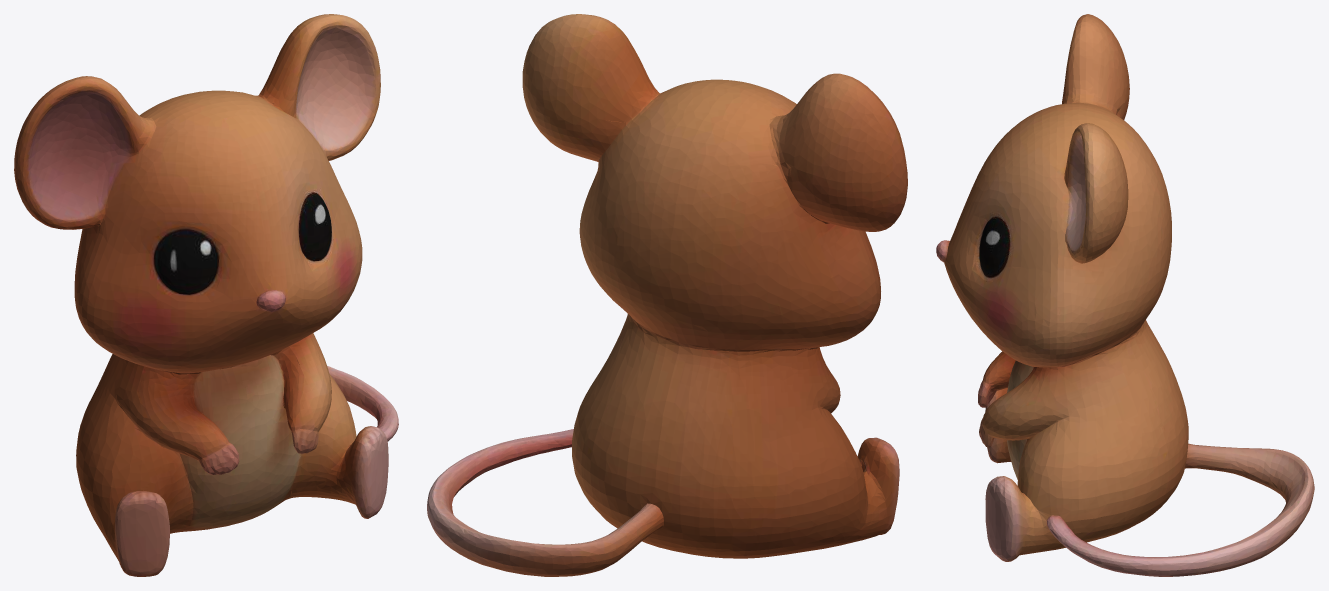
Rendered from rat.glb.
3 views of the same model, side by side, from view 1: azimuth 30°, elevation 25°; view 2: azimuth 150°, elevation 25°; view 3: azimuth 270°, elevation 25° (orthographic). The views are drawn at different scales.
Parts seen in each view (by area): view 1: geometry_0; view 2: geometry_0; view 3: geometry_0.
Part boxes in pixels (<box>): geometry_0: <box>14,14,398,576</box>; geometry_0: <box>427,14,907,576</box>; geometry_0: <box>936,14,1314,576</box>.
Bounding box in the file's own units: 0.8928 × 1 × 0.7921.
1 material, 1 textured.
